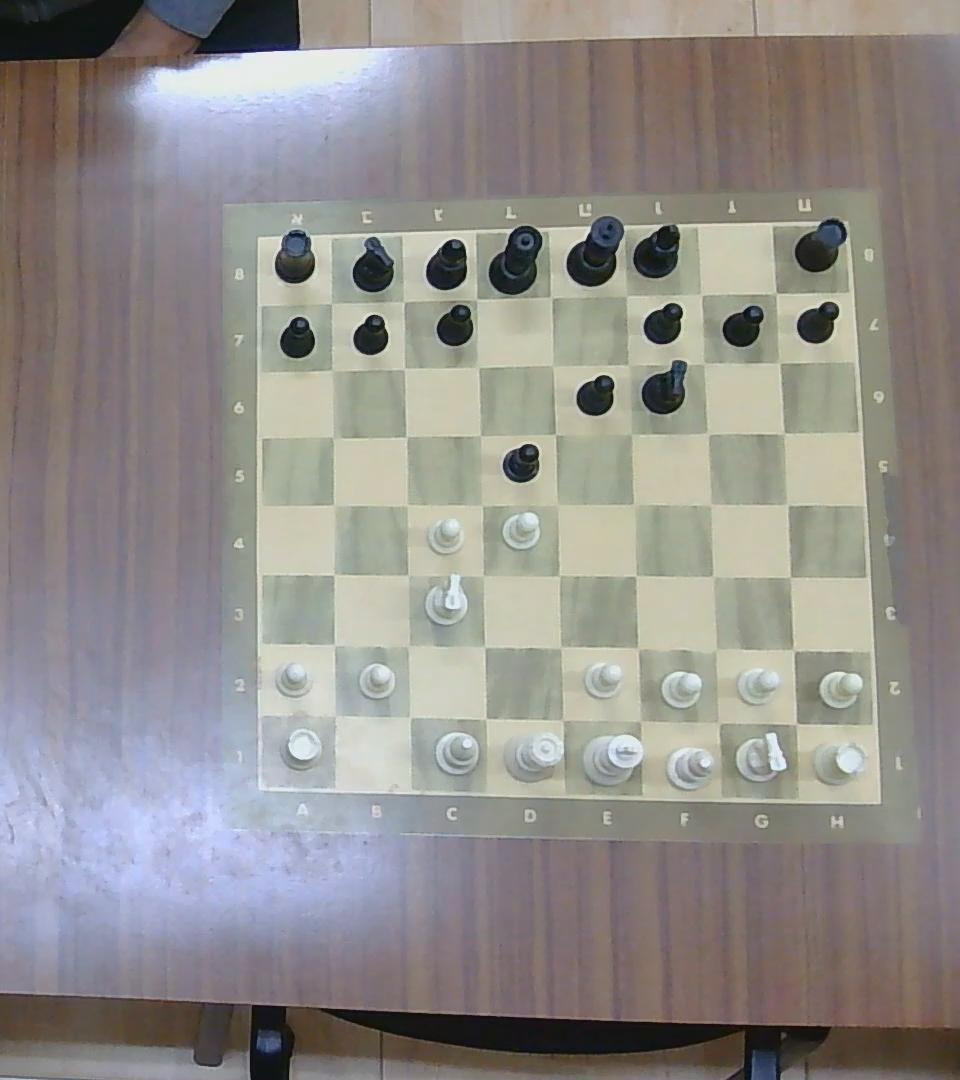xcorner: (778, 705, 813, 739), (701, 705, 734, 738), (620, 631, 653, 664), (623, 702, 656, 735), (543, 630, 575, 662), (468, 630, 500, 662), (546, 702, 578, 734), (319, 699, 350, 731), (470, 703, 501, 734), (774, 561, 805, 592), (392, 630, 423, 661), (393, 701, 423, 732), (699, 634, 730, 664), (698, 561, 728, 592), (777, 634, 808, 664), (319, 629, 349, 659), (621, 560, 650, 590), (544, 560, 573, 590), (467, 560, 496, 590), (393, 560, 422, 590), (772, 488, 801, 517), (620, 488, 649, 517), (320, 559, 348, 588), (543, 490, 572, 518), (467, 490, 495, 518), (320, 490, 348, 518), (616, 420, 645, 447), (536, 283, 565, 310), (393, 489, 421, 516), (697, 489, 725, 516), (693, 418, 721, 445), (770, 418, 798, 445), (463, 285, 491, 312), (538, 351, 566, 377), (318, 422, 345, 448), (317, 289, 345, 314), (393, 422, 419, 448), (318, 356, 344, 382), (542, 421, 569, 446), (464, 353, 491, 378), (612, 282, 639, 307), (390, 287, 415, 313), (466, 421, 491, 446), (690, 350, 715, 374), (616, 352, 641, 376), (690, 281, 714, 305), (763, 280, 788, 303), (390, 356, 414, 379), (767, 349, 791, 372)
